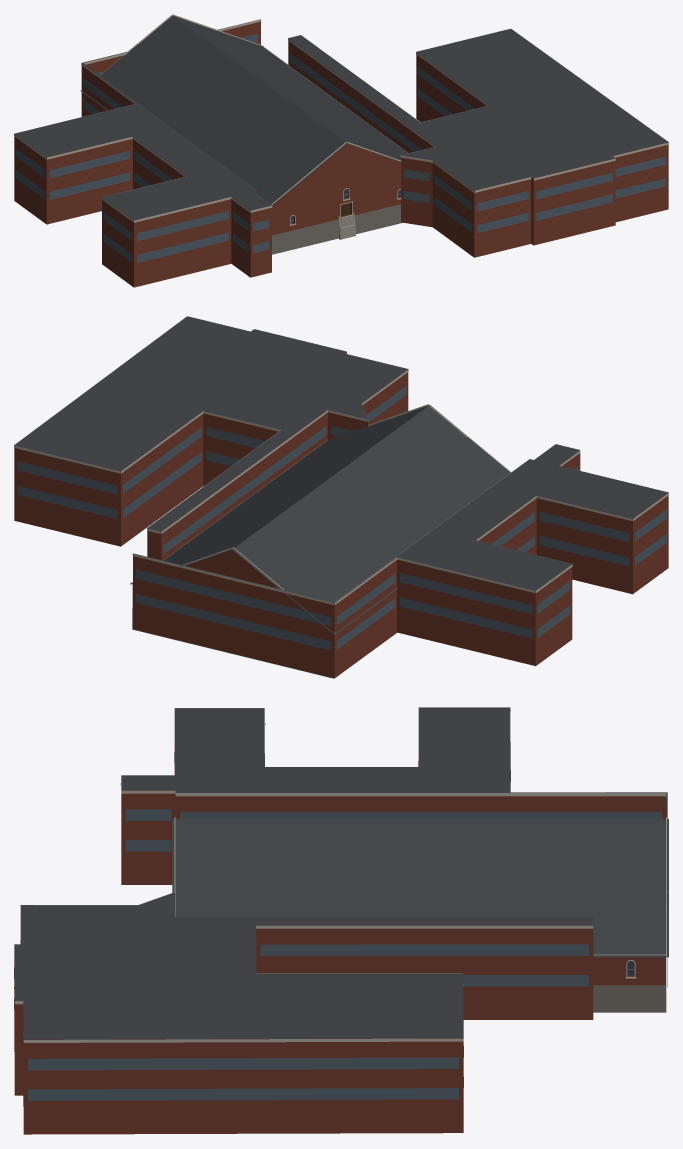
The model's file is second-presbyterian-pleasant-valley-dr.glb.
3 renders of one model, top to bottom at view 1: azimuth 30°, elevation 25°; view 2: azimuth 150°, elevation 25°; view 3: azimuth 270°, elevation 25°, orthographic. The views are drawn at different scales.
Parts seen in each view (by area): view 1: second_presbyterian_pleasant_valley_dr; view 2: second_presbyterian_pleasant_valley_dr; view 3: second_presbyterian_pleasant_valley_dr.
Boxes of the visible parts, x1,y1,x2,y2 form: second_presbyterian_pleasant_valley_dr: (14,14,668,287); second_presbyterian_pleasant_valley_dr: (14,316,668,678); second_presbyterian_pleasant_valley_dr: (14,707,668,1134).
Size of the model in its own units: 105 by 19.8 by 87.46.
